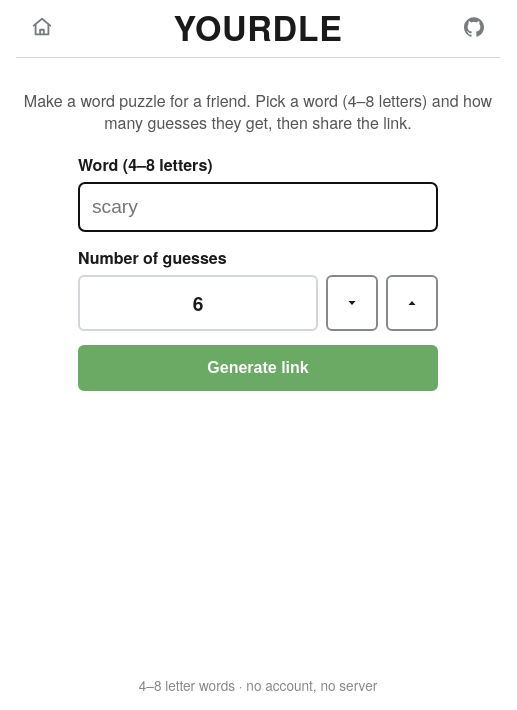
CreateScreen guess stepper › steps the count down and back up
Later steps or results of the test are not shown.
Click the button named "Fewer guesses".
click(352, 303)  # box [326,275,378,331]
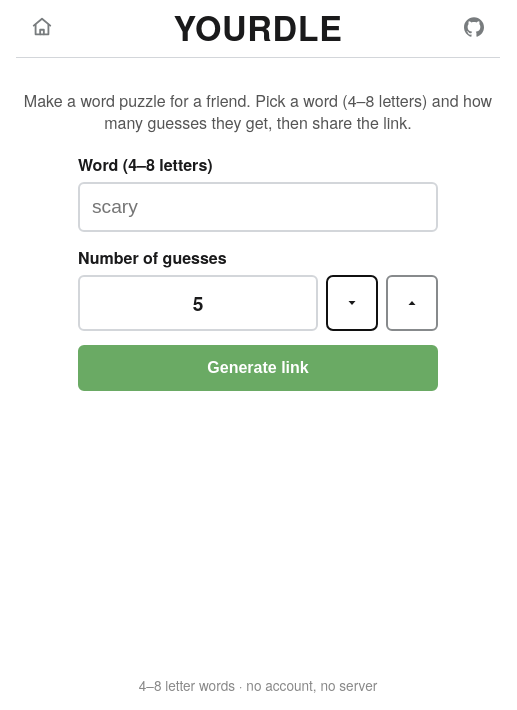
Now the text named "Number of guesses" reads "5", box [193,289,203,317]
